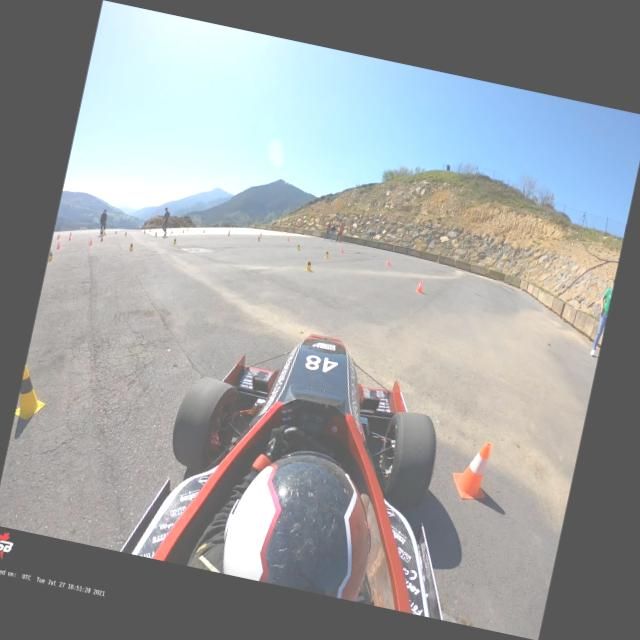orange_cone: (448, 436, 496, 502), (414, 278, 425, 294), (384, 255, 392, 266), (56, 240, 61, 250), (339, 246, 344, 253), (56, 233, 60, 239), (89, 238, 92, 245), (100, 234, 103, 241), (68, 232, 72, 236), (227, 228, 230, 233), (286, 236, 289, 241), (68, 236, 70, 240), (149, 228, 151, 232), (186, 229, 188, 231), (115, 230, 116, 233)
yellow_cone: (13, 364, 52, 424), (302, 258, 314, 272), (47, 250, 56, 264), (128, 240, 134, 252), (295, 242, 302, 251), (324, 249, 331, 258), (173, 237, 177, 244), (257, 236, 260, 242), (227, 231, 230, 237), (154, 232, 158, 236), (124, 232, 127, 235), (182, 230, 184, 233), (203, 230, 205, 233), (143, 231, 145, 233), (260, 233, 261, 236)
